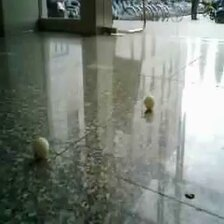w: (32, 137, 50, 157), (142, 94, 157, 111)
